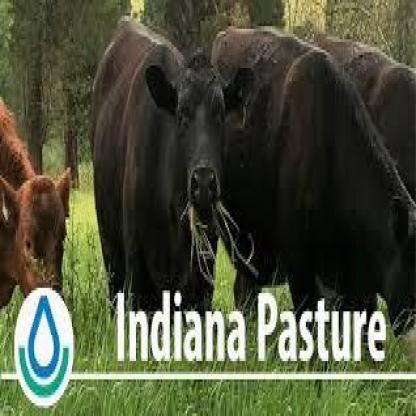cow: (209, 25, 416, 349), (89, 14, 254, 326), (303, 38, 416, 213), (0, 89, 71, 309)
